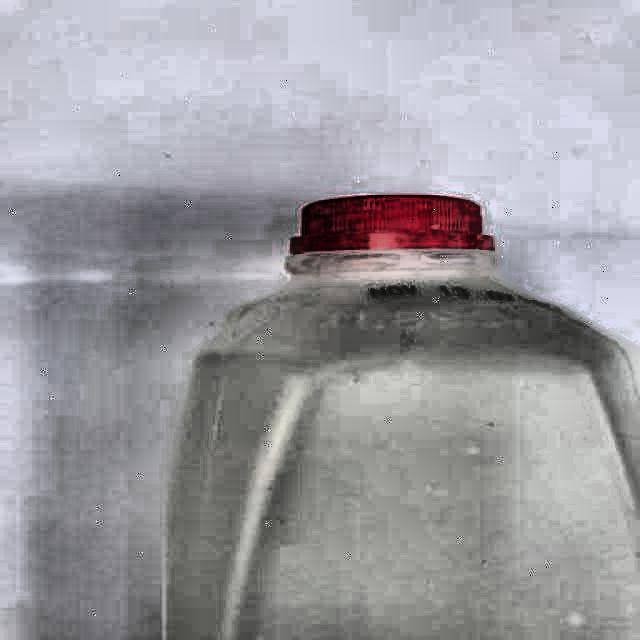plastic: (168, 195, 640, 639)
